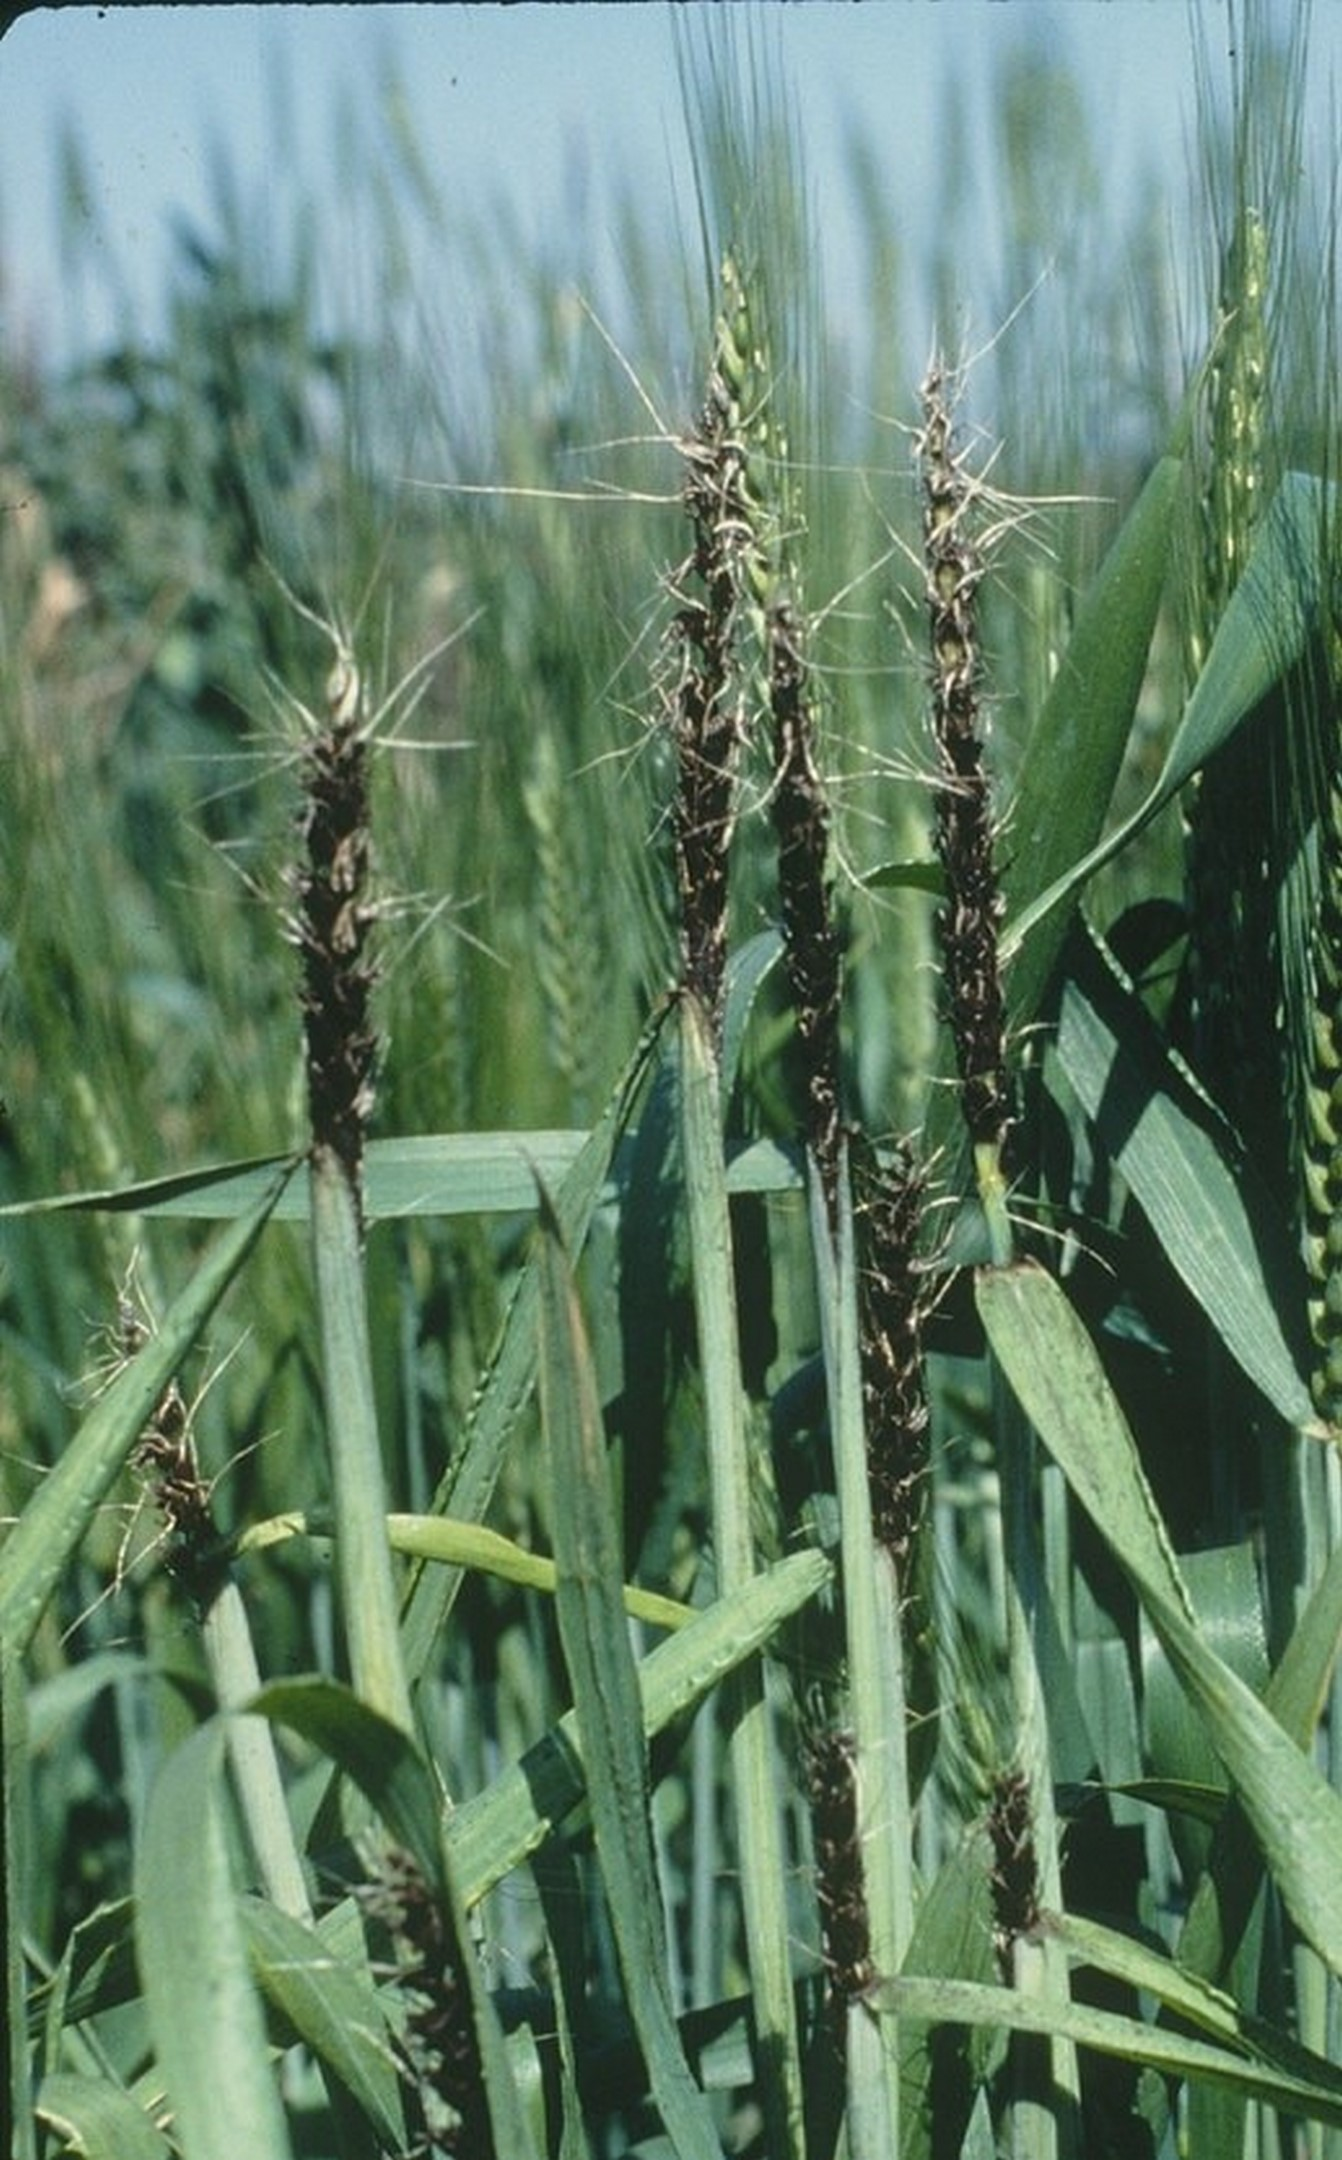Wheat Loose Smut: (635, 601, 1070, 1191), (240, 649, 421, 1160)
